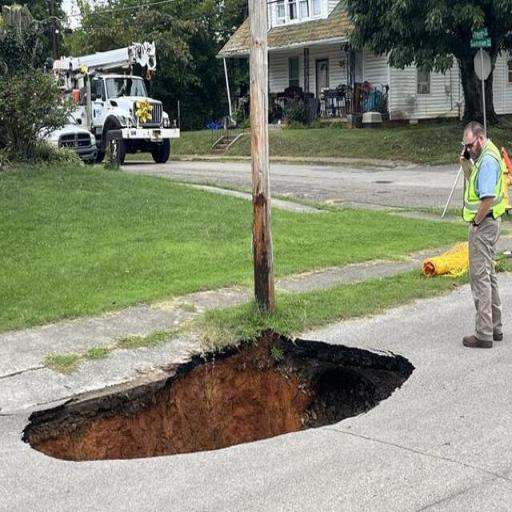Concentric_Crack: (24, 331, 413, 459)
